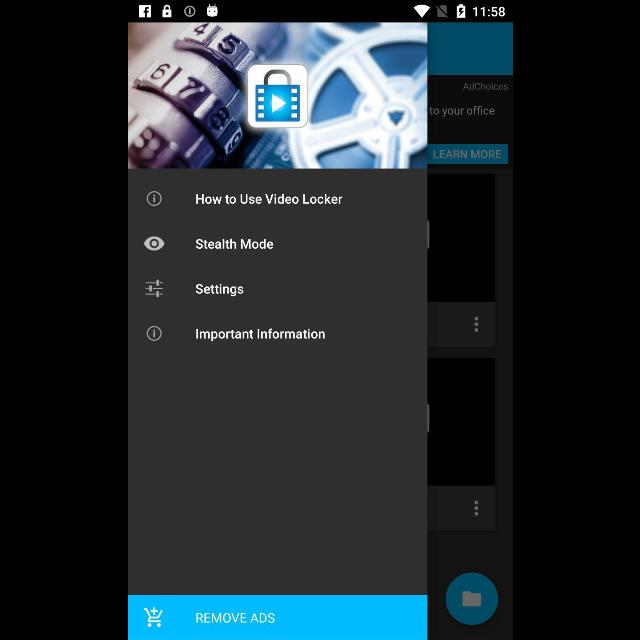icon: (145, 280, 163, 298), (144, 236, 164, 252), (146, 191, 162, 207), (146, 326, 162, 342)
image: (128, 23, 426, 169)
panel: (128, 22, 426, 640)
text: (196, 328, 324, 342), (195, 193, 342, 204), (195, 238, 273, 250), (195, 284, 243, 296)
textbutton: (128, 596, 426, 640)
uppertaskbar: (128, 1, 512, 23)
